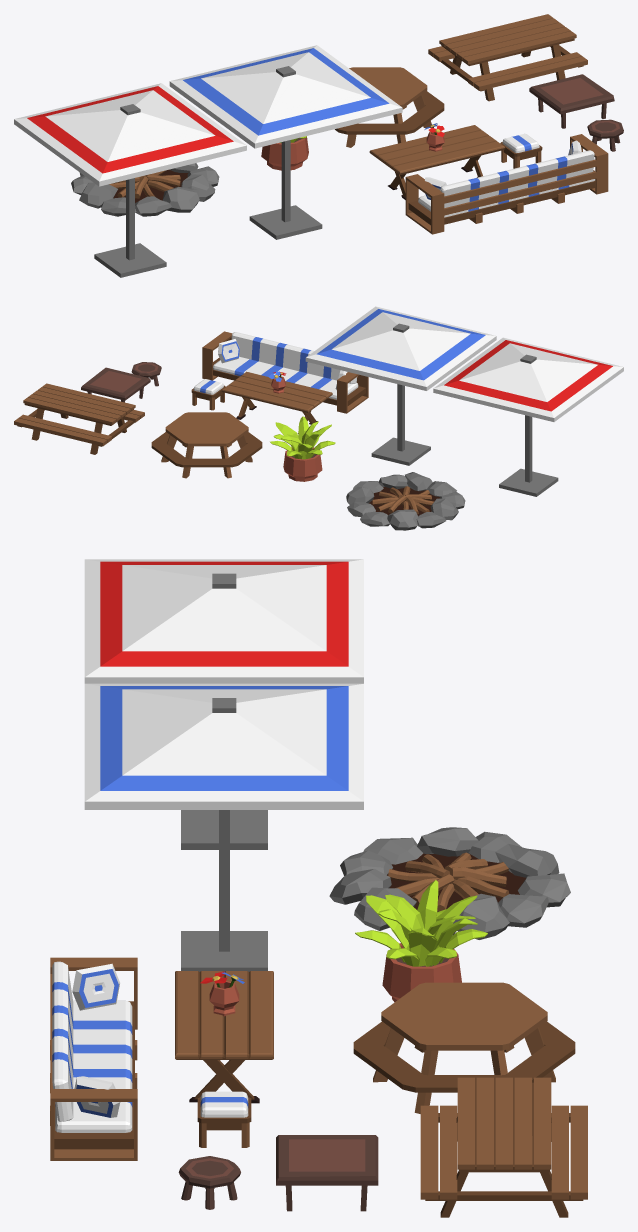
The model's file is low_poly_outdoor_furniture_v1..glb.
The picture shows the model from 3 angles, top to bottom: view 1: azimuth 30°, elevation 25°; view 2: azimuth 150°, elevation 25°; view 3: azimuth 270°, elevation 25°; orthographic projection. The views are drawn at different scales.
Parts seen in each view (by area): view 1: Umbrella Blue, Umbrella Red, Couch, Bench Table, Campfire, Table, Cylinder Bench Table, Coffee table, Plant, Stool couch style, Stool Coffee table, Flower Pot; view 2: Umbrella Blue, Umbrella Red, Couch, Campfire, Bench Table, Cylinder Bench Table, Table, Plant, Coffee table, Stool couch style, Stool Coffee table; view 3: Umbrella Blue, Umbrella Red, Bench Table, Couch, Campfire, Cylinder Bench Table, Table, Plant, Coffee table, Stool couch style, Stool Coffee table, Flower Pot.
Part boxes in pixels (bbox=[...]): Umbrella Blue: bbox=[169, 45, 402, 239]; Umbrella Red: bbox=[14, 83, 246, 277]; Couch: bbox=[405, 134, 608, 234]; Bench Table: bbox=[428, 14, 587, 101]; Campfire: bbox=[71, 163, 219, 216]; Table: bbox=[369, 125, 505, 199]; Cylinder Bench Table: bbox=[335, 67, 444, 147]; Coffee table: bbox=[529, 74, 614, 128]; Plant: bbox=[261, 136, 308, 170]; Stool couch style: bbox=[500, 133, 542, 168]; Stool Coffee table: bbox=[587, 119, 623, 151]; Flower Pot: bbox=[424, 123, 444, 151]; Umbrella Blue: bbox=[305, 306, 496, 465]; Umbrella Red: bbox=[433, 337, 623, 496]; Couch: bbox=[202, 331, 368, 413]; Campfire: bbox=[346, 472, 465, 530]; Bench Table: bbox=[14, 383, 144, 454]; Cylinder Bench Table: bbox=[151, 412, 262, 478]; Table: bbox=[221, 371, 332, 433]; Plant: bbox=[270, 416, 335, 481]; Coffee table: bbox=[81, 367, 150, 402]; Stool couch style: bbox=[191, 379, 225, 410]; Stool Coffee table: bbox=[131, 362, 161, 386]; Umbrella Blue: bbox=[84, 683, 363, 971]; Umbrella Red: bbox=[84, 559, 363, 849]; Bench Table: bbox=[420, 1077, 587, 1217]; Couch: bbox=[50, 957, 137, 1160]; Campfire: bbox=[329, 827, 570, 939]; Cylinder Bench Table: bbox=[353, 982, 575, 1113]; Table: bbox=[175, 971, 273, 1103]; Plant: bbox=[355, 880, 487, 1002]; Coffee table: bbox=[276, 1135, 378, 1211]; Stool couch style: bbox=[197, 1091, 251, 1147]; Stool Coffee table: bbox=[178, 1156, 240, 1209]; Flower Pot: bbox=[200, 971, 244, 1016].
Size of the model in its own units: 4.32 by 1.08 by 2.08.
